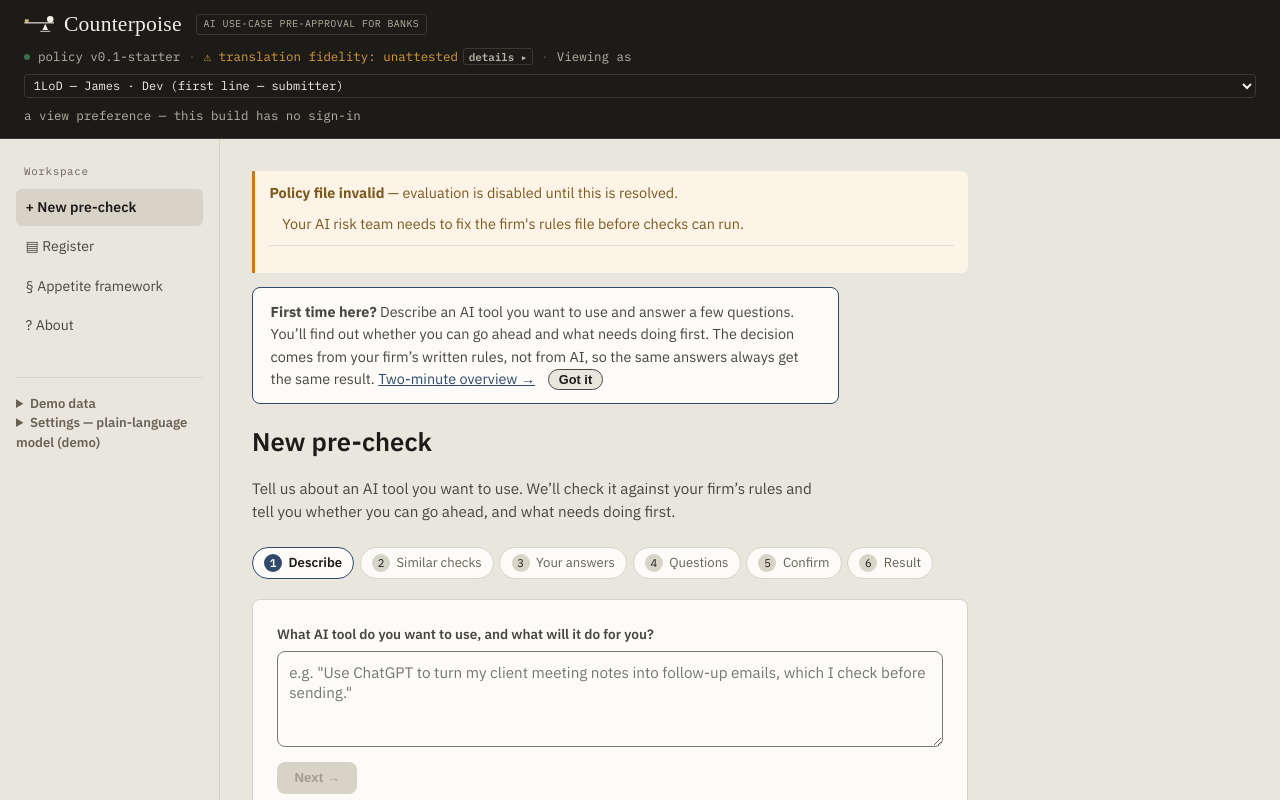
Test case: App — 1LoD nav surface (R12-AD-2) › TC-R12-AD-2-03: switching from 2LoD to 1LoD while on the rule-queue view falls back to intake
The width and height of the screenshot is (1280, 800).
Select "2LoD — Priya · AI Risk (second line — reviewer)" in the dropdown labelled "Viewing as" at (640, 86), box [24,74,1256,98]
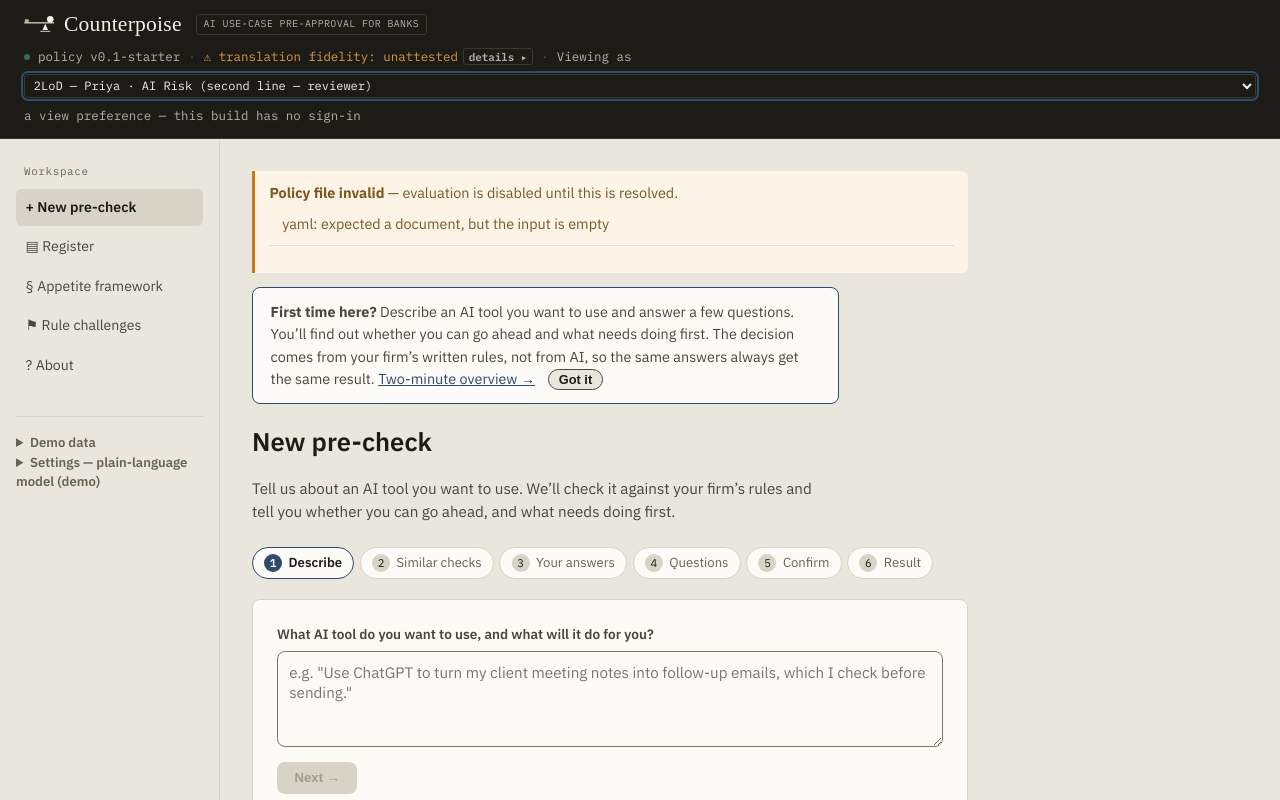
Click the button "⚑ Rule challenges" at (110, 326), box [16,308,203,345]
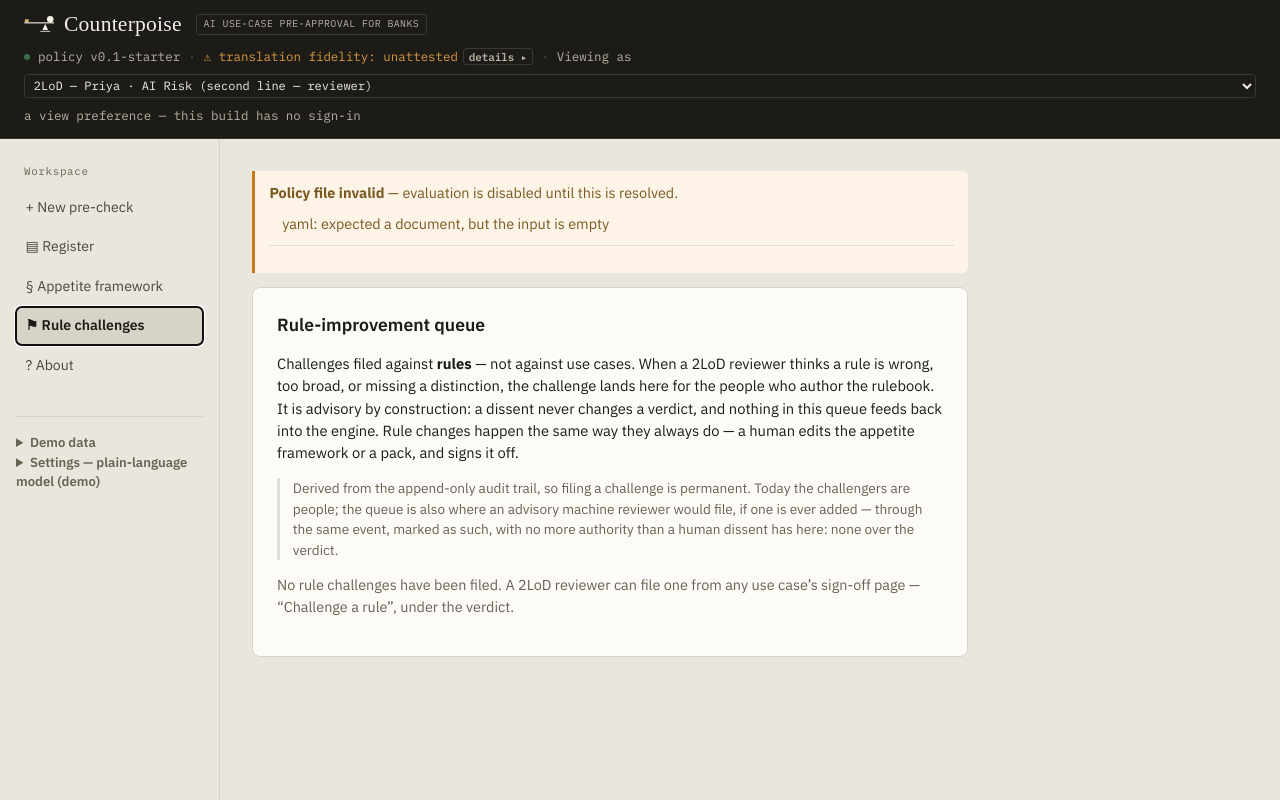
Now the heading "Rule-improvement queue" is shown, box [277,313,485,336]
Select "1LoD — James · Dev (first line — submitter)" in the dropdown labelled "Viewing as" at (640, 86), box [24,74,1256,98]
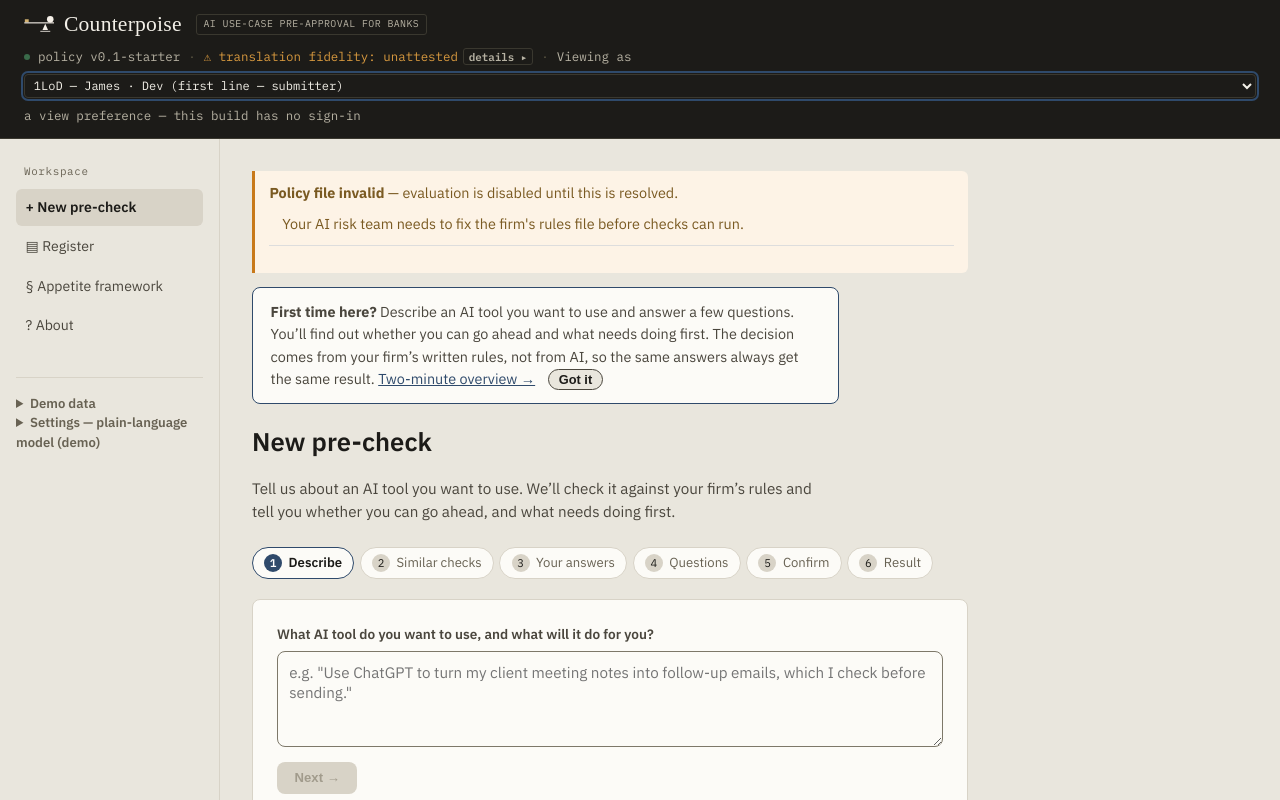
Now the heading "Rule-improvement queue" is gone
Now the button "Rule challenges" is gone
